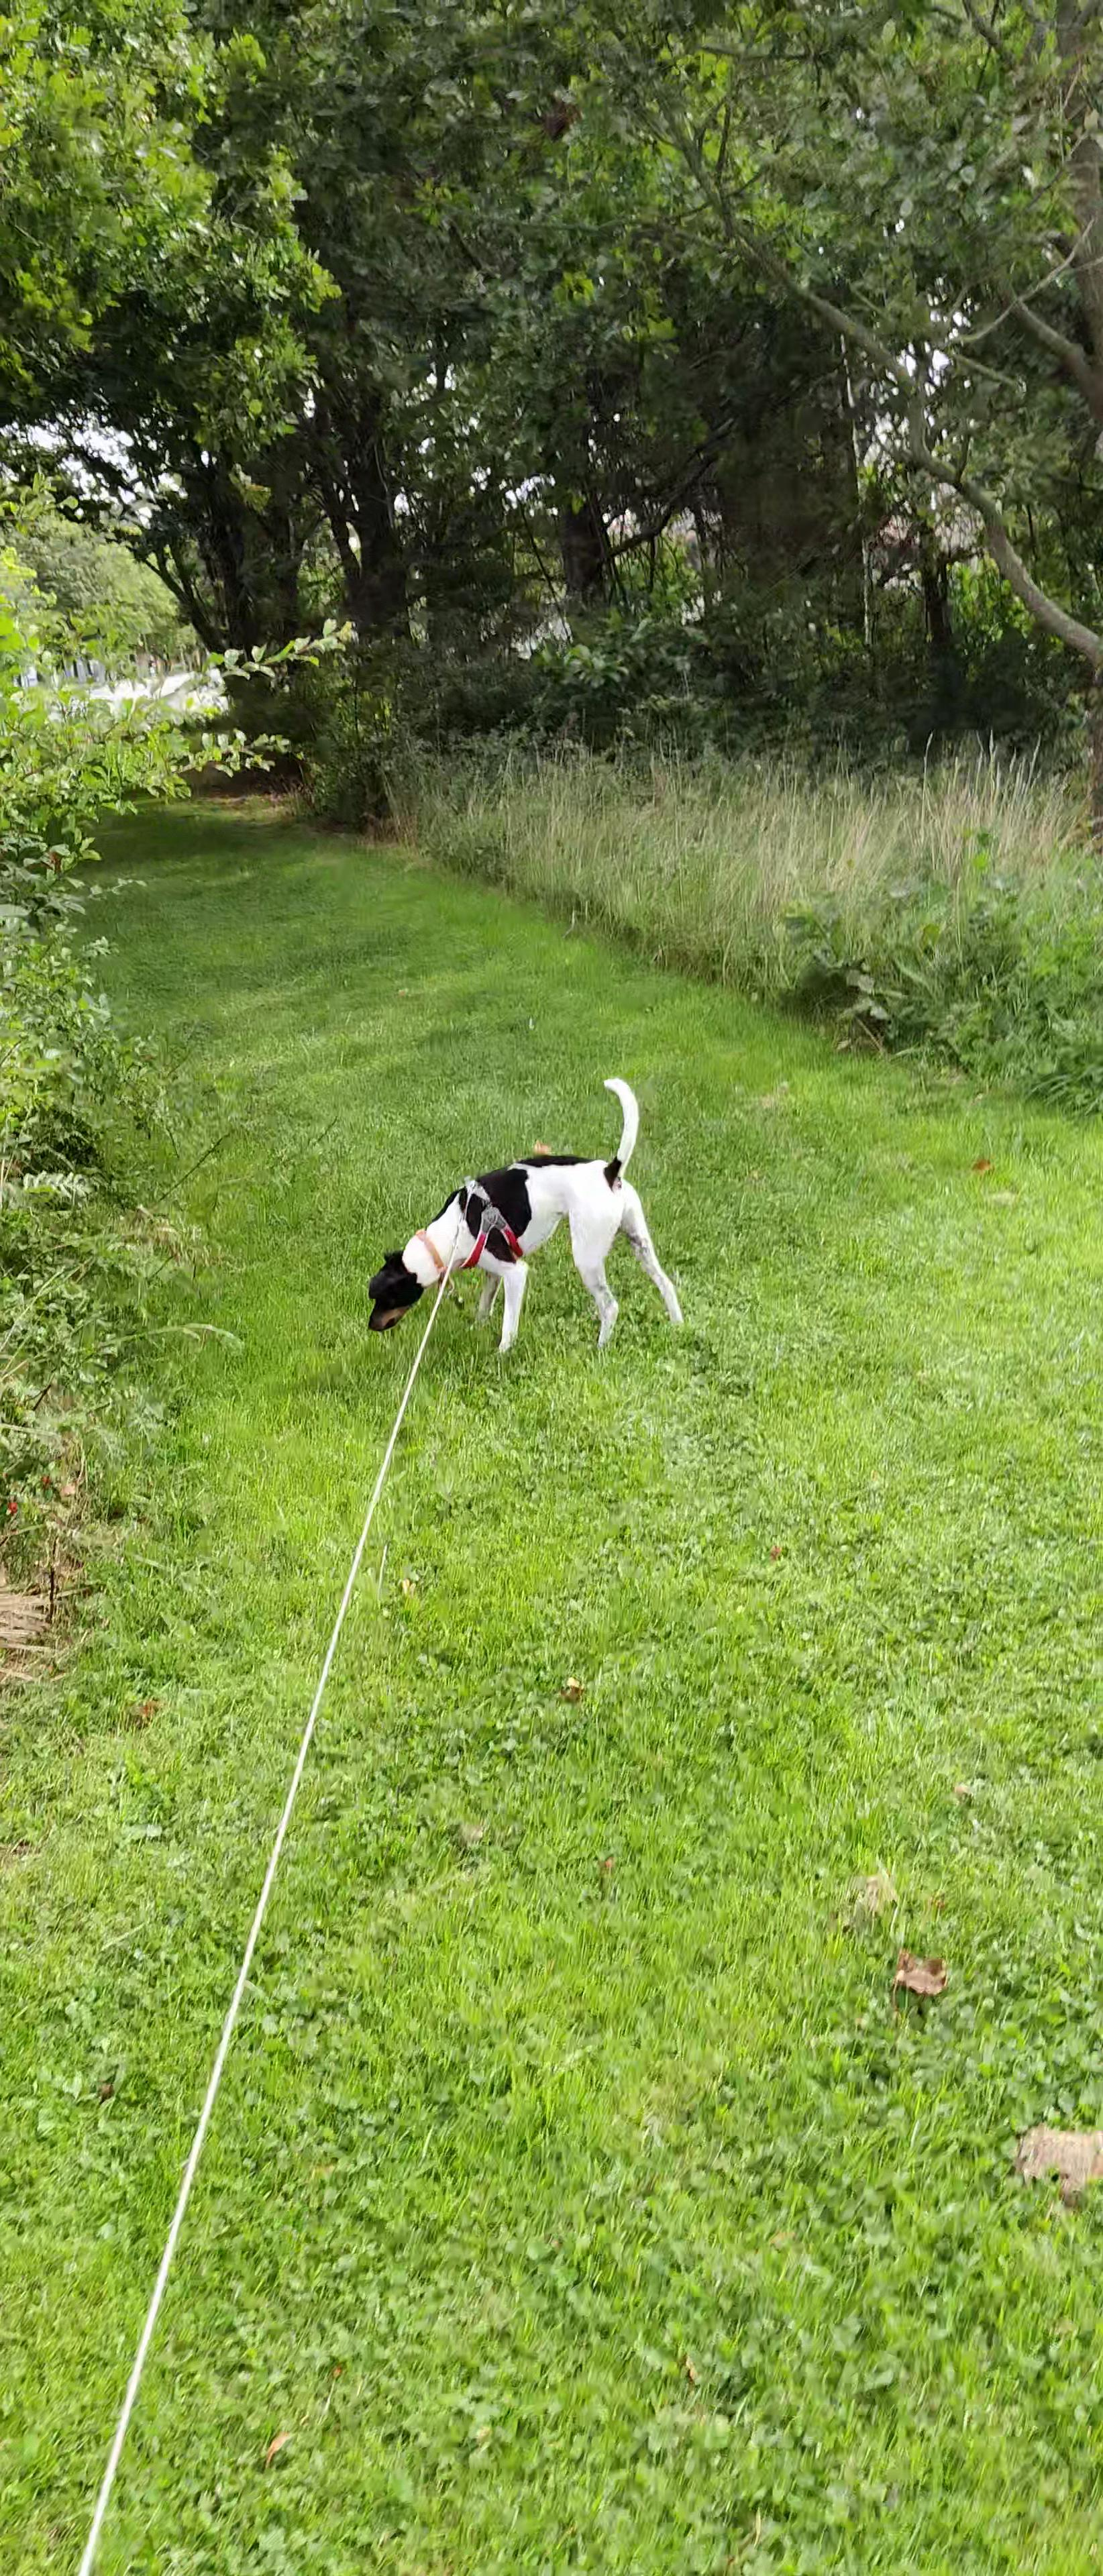Dog: (352, 1066, 690, 1362)
